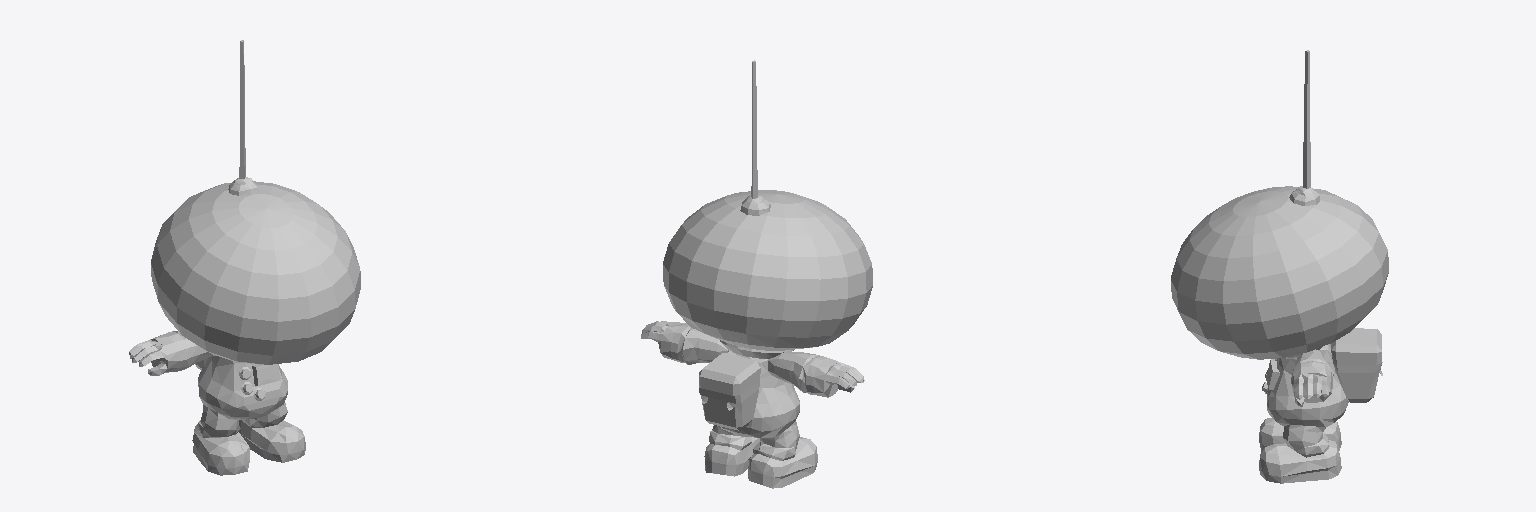
The model's file is Olimar.obj.
3 views of the same model, side by side, from view 1: azimuth 30°, elevation 25°; view 2: azimuth 150°, elevation 25°; view 3: azimuth 270°, elevation 25° (orthographic).
Visible parts, largest first — view 1: polygon6, polygon0, polygon1; view 2: polygon6, polygon0, polygon1; view 3: polygon6, polygon0, polygon1.
Boxes of the visible parts, box(x1,y1,x2,y2) form: polygon6: box(151, 181, 360, 364); polygon0: box(171, 331, 305, 475); polygon1: box(129, 40, 265, 400); polygon6: box(663, 190, 872, 350); polygon0: box(677, 326, 819, 488); polygon1: box(641, 60, 864, 430); polygon6: box(1171, 186, 1388, 359); polygon0: box(1259, 344, 1348, 483); polygon1: box(1262, 50, 1382, 406).
Bounding box in the file's own units: 10.34 × 18.47 × 8.94.